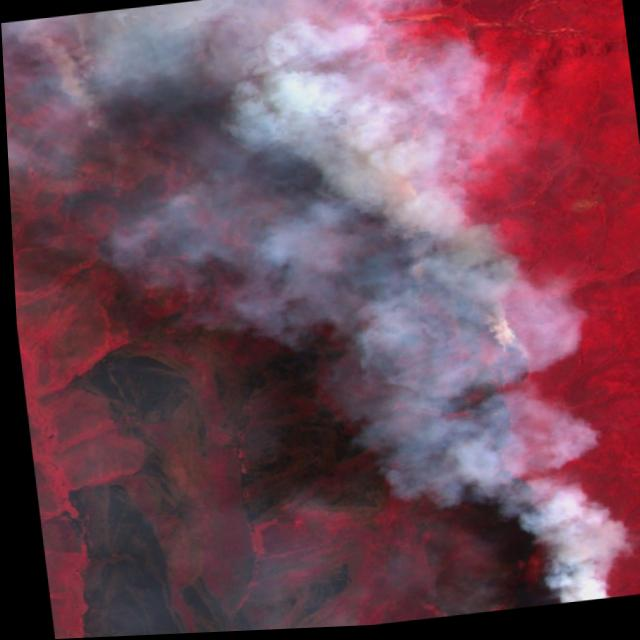fire: (18, 0, 609, 639)
